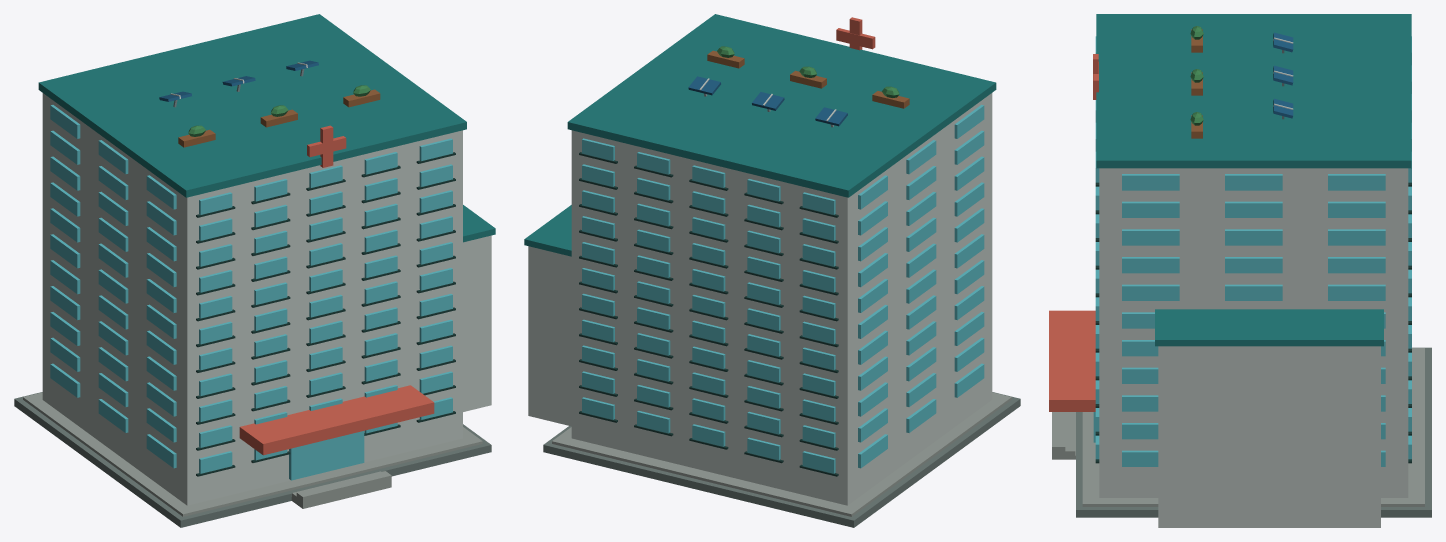
File: hospital_lv4.glb
3 renders of one model, left to right at view 1: azimuth 30°, elevation 25°; view 2: azimuth 150°, elevation 25°; view 3: azimuth 270°, elevation 25°, orthographic. The views are drawn at different scales.
Parts seen in each view (by area): view 1: rough, glossy, metallic; view 2: rough, glossy, metallic; view 3: rough, glossy, metallic.
Boxes of the visible parts, x1,y1,x2,y2 form: rough: [14, 14, 495, 527]; glossy: [50, 105, 452, 480]; metallic: [159, 60, 318, 107]; rough: [524, 14, 1020, 527]; glossy: [582, 104, 984, 473]; metallic: [688, 76, 847, 127]; rough: [1049, 14, 1431, 527]; glossy: [1093, 36, 1411, 466]; metallic: [1273, 32, 1293, 119].
Bounding box in the file's own units: 11.1 × 10.72 × 9.78.
